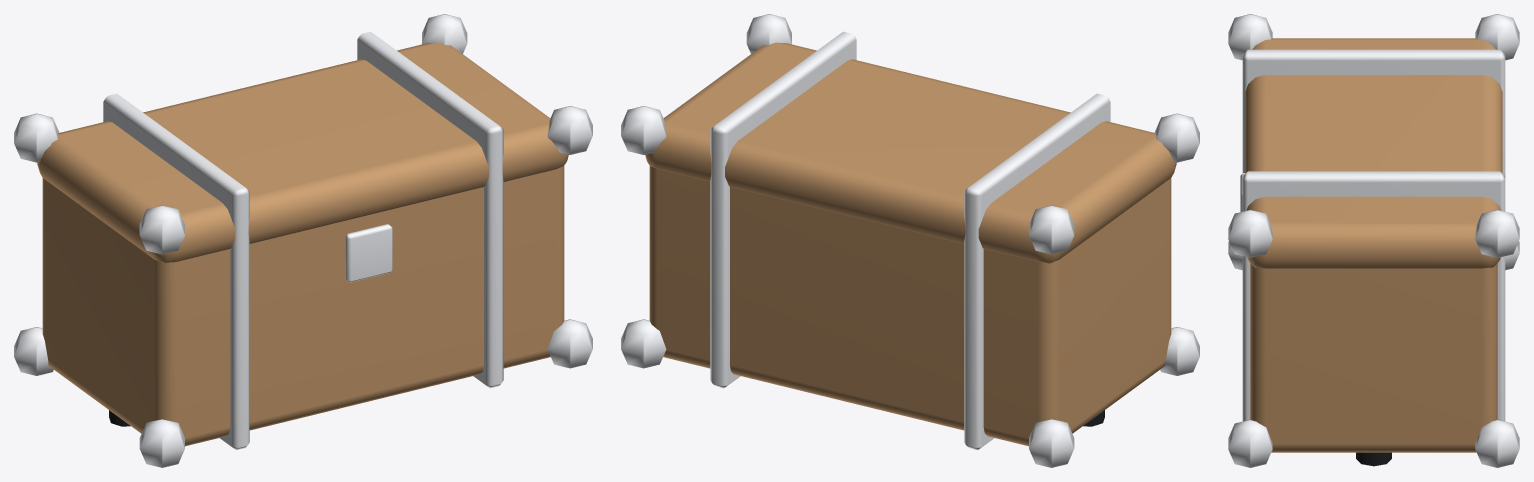
Rendered from prop_trunk.glb.
3 views of the same model, side by side, from view 1: azimuth 30°, elevation 25°; view 2: azimuth 150°, elevation 25°; view 3: azimuth 270°, elevation 25° (orthographic).
Parts seen in each view (by area): view 1: prop_trunk; view 2: prop_trunk; view 3: prop_trunk.
Part boxes in pixels (box(x1,y1,x2,y2)): prop_trunk: box(14, 14, 592, 467); prop_trunk: box(621, 14, 1199, 467); prop_trunk: box(1228, 14, 1519, 467).
Bounding box in the file's own units: 1 × 0.56 × 0.5666.
